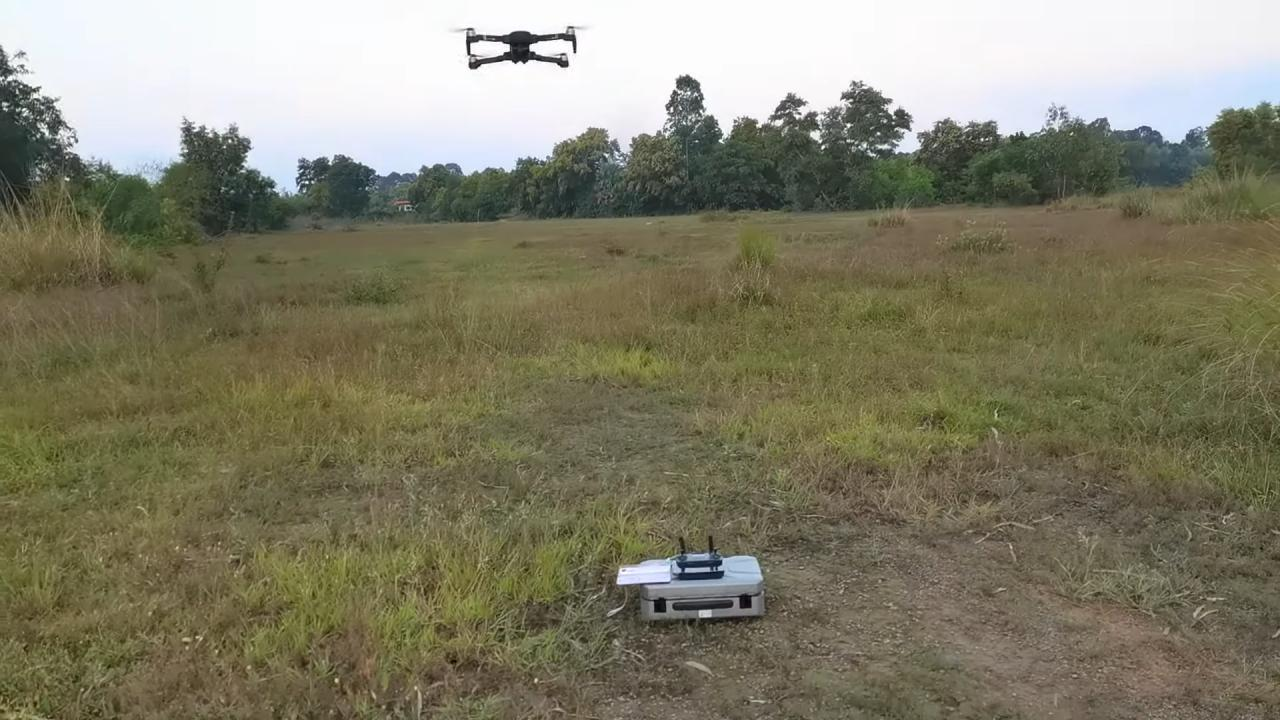Drone: (439, 12, 602, 84)
